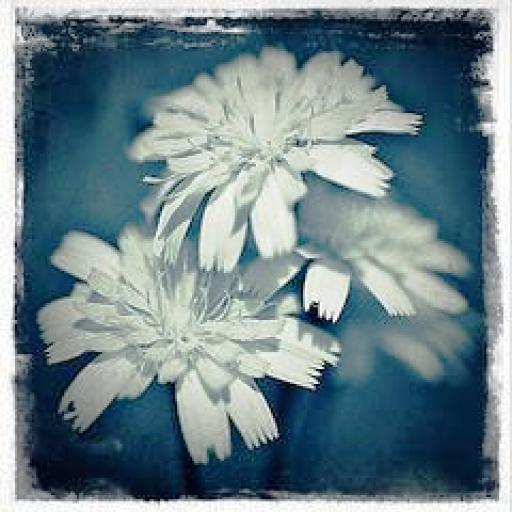daisy: (47, 222, 339, 458), (130, 45, 408, 214)
